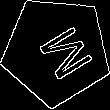M_SW: (24, 18, 89, 84)
